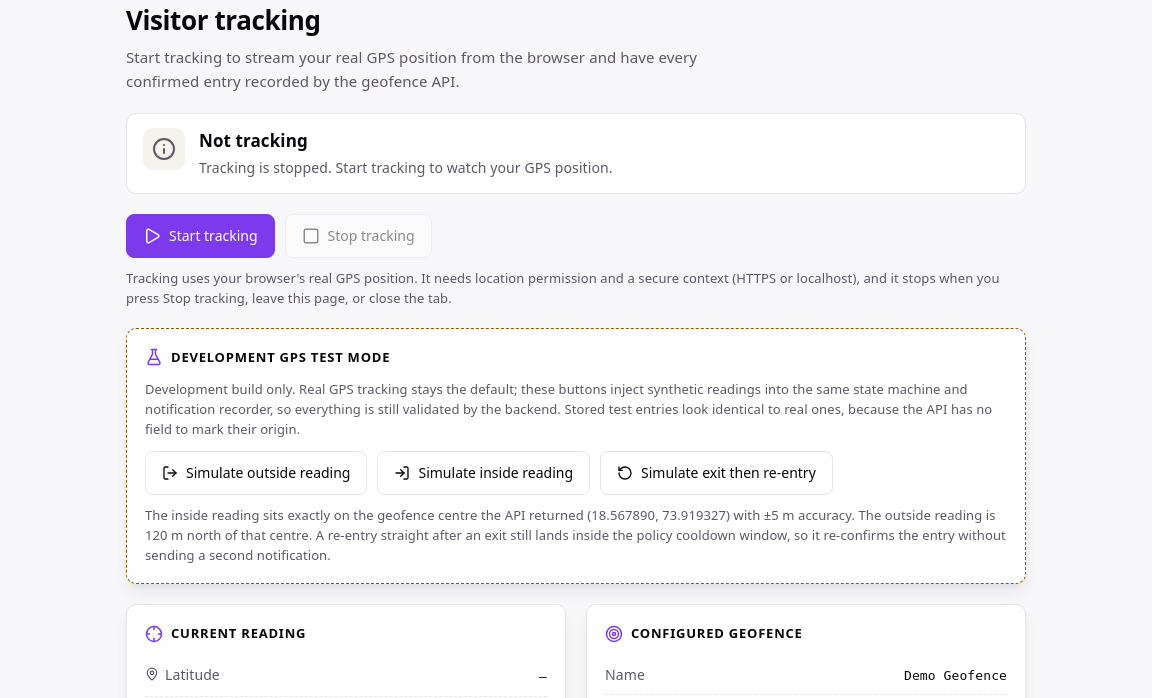
VisitorTrackingPage › reports a persistence failure instead of a success
Click the button "Start tracking": (200, 236) [126,214,275,258]
(page scrolled)
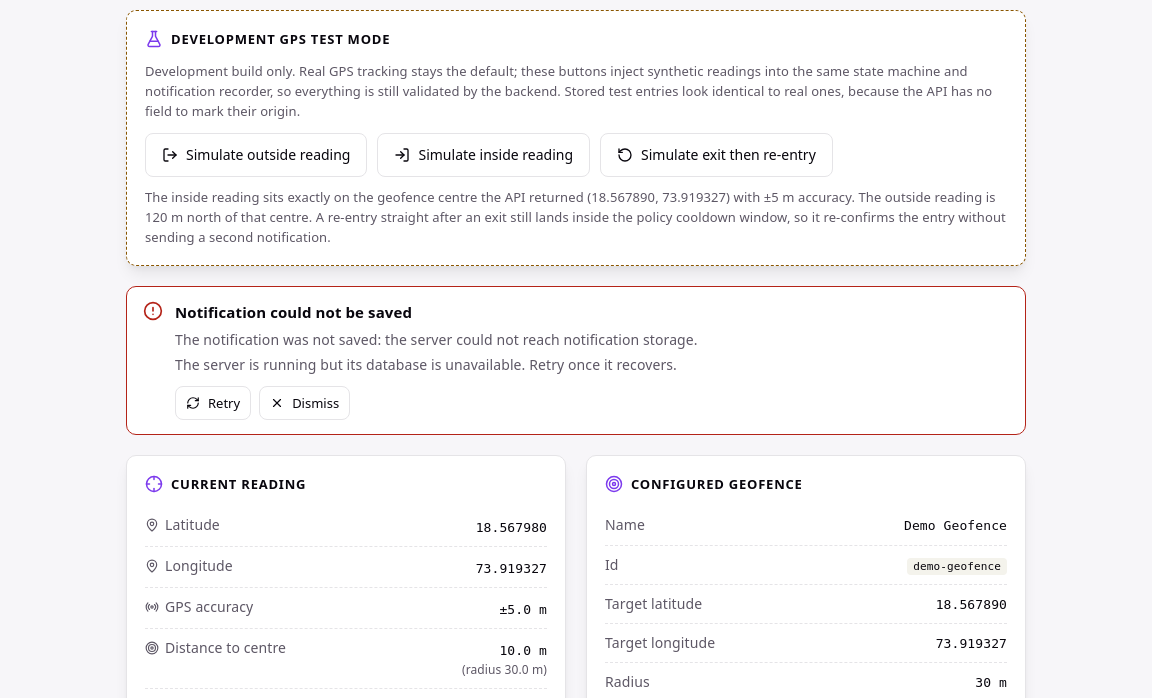
Expected: the message shows "Notification could not be saved", [175,302,412,322]
Expected: the message shows "not saved", [175,330,698,349]
